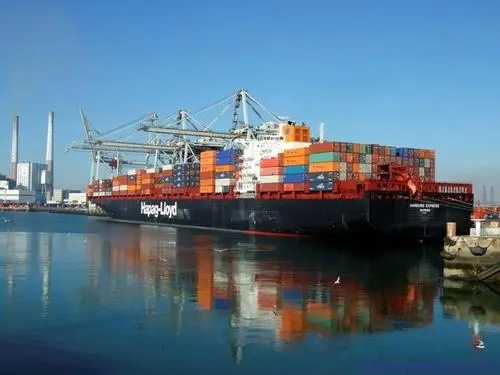Cargoship: (85, 117, 448, 233)
